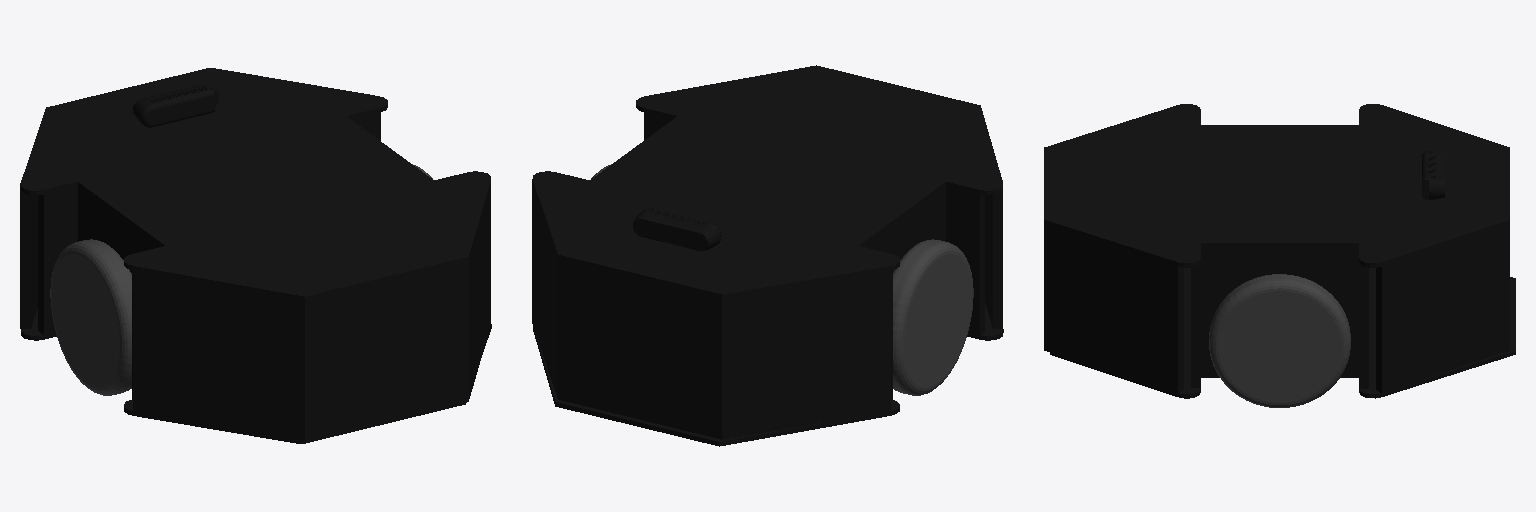
URDF robot description (cadbot1):
<?xml version="1.0" encoding="utf-8"?>
<!-- This URDF was automatically created by SolidWorks to URDF Exporter! Originally created by [author] ([email redacted]) 
     Commit Version: 1.6.0-4-g7f85cfe  Build Version: 1.6.7995.38578
     For more information, please see http://wiki.ros.org/sw_urdf_exporter -->
<robot
  name="cadbot1">
  <link
    name="base_link">
    <inertial>
      <origin
        xyz="0.331566872866085 0.292796382028396 0.324658439289683"
        rpy="0 0 0" />
      <mass
        value="3.87343741586316" />
      <inertia
        ixx="0.037356826360802"
        ixy="-2.10673889749375E-07"
        ixz="-1.74567761347901E-09"
        iyy="0.0412931714406059"
        iyz="1.01537395729556E-08"
        izz="0.0699399666559804" />
    </inertial>
    <visual>
      <origin
        xyz="0 0 0"
        rpy="0 0 0" />
      <geometry>
        <mesh
          filename="package://cadbot1/meshes/base_link.STL" />
      </geometry>
      <material
        name="">
        <color
          rgba="0.109803921568627 0.109803921568627 0.109803921568627 1" />
      </material>
    </visual>
    <collision>
      <origin
        xyz="0 0 0"
        rpy="0 0 0" />
      <geometry>
        <mesh
          filename="package://cadbot1/meshes/base_link.STL" />
      </geometry>
    </collision>
  </link>
  <link
    name="Wheel_R">
    <inertial>
      <origin
        xyz="-0.00137081658300181 -0.174364764706997 0.0550383474751728"
        rpy="0 0 0" />
      <mass
        value="0.541434256932212" />
      <inertia
        ixx="0.00078732284976719"
        ixy="-1.29773035853553E-18"
        ixz="7.45388993583784E-20"
        iyy="0.00148102149796845"
        iyz="-2.54296872849855E-19"
        izz="0.00078732284976719" />
    </inertial>
    <visual>
      <origin
        xyz="0 0 0"
        rpy="0 0 0" />
      <geometry>
        <mesh
          filename="package://cadbot1/meshes/Wheel_R.STL" />
      </geometry>
      <material
        name="">
        <color
          rgba="0.298039215686275 0.298039215686275 0.298039215686275 1" />
      </material>
    </visual>
    <collision>
      <origin
        xyz="0 0 0"
        rpy="0 0 0" />
      <geometry>
        <mesh
          filename="package://cadbot1/meshes/Wheel_R.STL" />
      </geometry>
    </collision>
  </link>
  <joint
    name="R_W"
    type="revolute">
    <origin
      xyz="0.33152 0.29508 0.2437"
      rpy="0 -0.01997 1.5708" />
    <parent
      link="base_link" />
    <child
      link="Wheel_R" />
    <axis
      xyz="0 1 0" />
    <limit
      lower="0"
      upper="0"
      effort="0"
      velocity="0" />
  </joint>
  <link
    name="Wheel_L">
    <inertial>
      <origin
        xyz="-0.00137081658300231 0.174364764706998 0.0550383474751728"
        rpy="0 0 0" />
      <mass
        value="0.541434256932212" />
      <inertia
        ixx="0.000787322849767188"
        ixy="-1.14319334392322E-18"
        ixz="6.09863722023096E-20"
        iyy="0.00148102149796845"
        iyz="-3.47317894706212E-19"
        izz="0.000787322849767188" />
    </inertial>
    <visual>
      <origin
        xyz="0 0 0"
        rpy="0 0 0" />
      <geometry>
        <mesh
          filename="package://cadbot1/meshes/Wheel_L.STL" />
      </geometry>
      <material
        name="">
        <color
          rgba="0.298039215686275 0.298039215686275 0.298039215686275 1" />
      </material>
    </visual>
    <collision>
      <origin
        xyz="0 0 0"
        rpy="0 0 0" />
      <geometry>
        <mesh
          filename="package://cadbot1/meshes/Wheel_L.STL" />
      </geometry>
    </collision>
  </link>
  <joint
    name="L_W"
    type="revolute">
    <origin
      xyz="0.33152 0.29508 0.2437"
      rpy="0 -0.01997 1.5708" />
    <parent
      link="base_link" />
    <child
      link="Wheel_L" />
    <axis
      xyz="0 -1 0" />
    <limit
      lower="0"
      upper="0"
      effort="0"
      velocity="0" />
  </joint>
</robot>

--- Facts derived from the render (not from the file) ---
Views: 3 orthographic renders of the robot side by side, from view 1: azimuth 30°, elevation 25°; view 2: azimuth 150°, elevation 25°; view 3: azimuth 270°, elevation 25°.
Robot: cadbot1 — 3 links, 2 joints (2 revolute); root link base_link; default pose: every joint at zero.
Visible links, largest first — view 1: base_link, Wheel_L; view 2: base_link, Wheel_L; view 3: base_link, Wheel_R.
Link boxes in pixels (x1,y1,x2,y2): base_link: [20, 68, 491, 443]; Wheel_L: [50, 239, 131, 395]; base_link: [532, 65, 1003, 446]; Wheel_L: [893, 239, 973, 395]; base_link: [1044, 104, 1515, 398]; Wheel_R: [1209, 274, 1350, 407].
Size in the robot's own frame: 0.4057 by 0.5056 by 0.2062 metres.
3 mesh visuals loaded from 3 distinct referenced files (3 binary STL).
